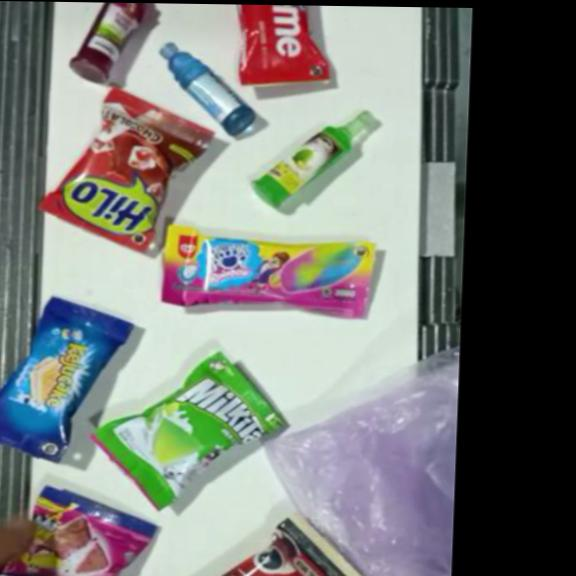Plastik: (256, 343, 458, 576), (86, 346, 289, 512), (39, 82, 216, 253), (0, 293, 134, 463), (161, 226, 378, 320), (1, 483, 159, 576), (249, 107, 377, 211), (156, 41, 261, 137), (215, 511, 369, 576), (232, 3, 331, 87), (68, 1, 145, 82)
